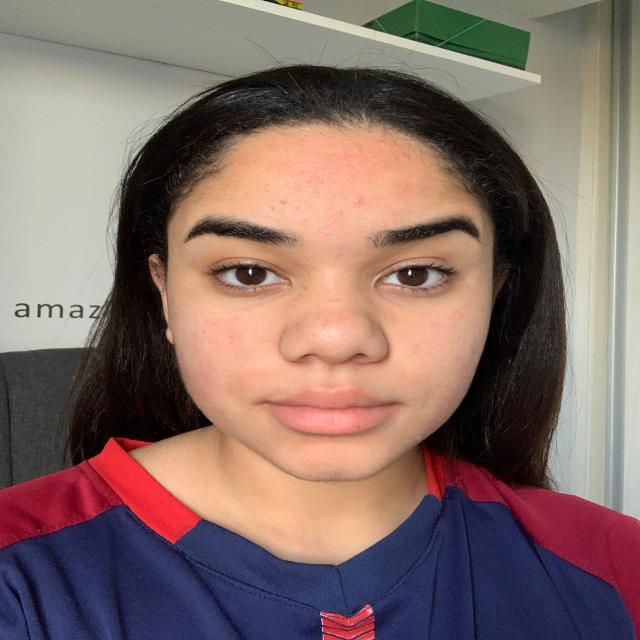Acne: (384, 190, 403, 207), (254, 180, 274, 192), (277, 196, 293, 208), (334, 219, 349, 229), (200, 370, 216, 378), (354, 196, 364, 208), (341, 158, 356, 166), (320, 232, 330, 244), (396, 151, 409, 160), (325, 168, 340, 175), (335, 210, 348, 218), (358, 226, 369, 235), (228, 336, 238, 344), (367, 144, 376, 152), (275, 172, 287, 178), (442, 404, 450, 411), (200, 329, 210, 334), (317, 178, 325, 184), (233, 315, 241, 321), (430, 414, 437, 420), (268, 206, 277, 210), (416, 436, 422, 442), (448, 393, 454, 398)
Blackheads: (319, 326, 341, 344)
Englarged-Pores: (246, 330, 270, 354)
Eyebags: (204, 287, 300, 311), (373, 290, 468, 314)
